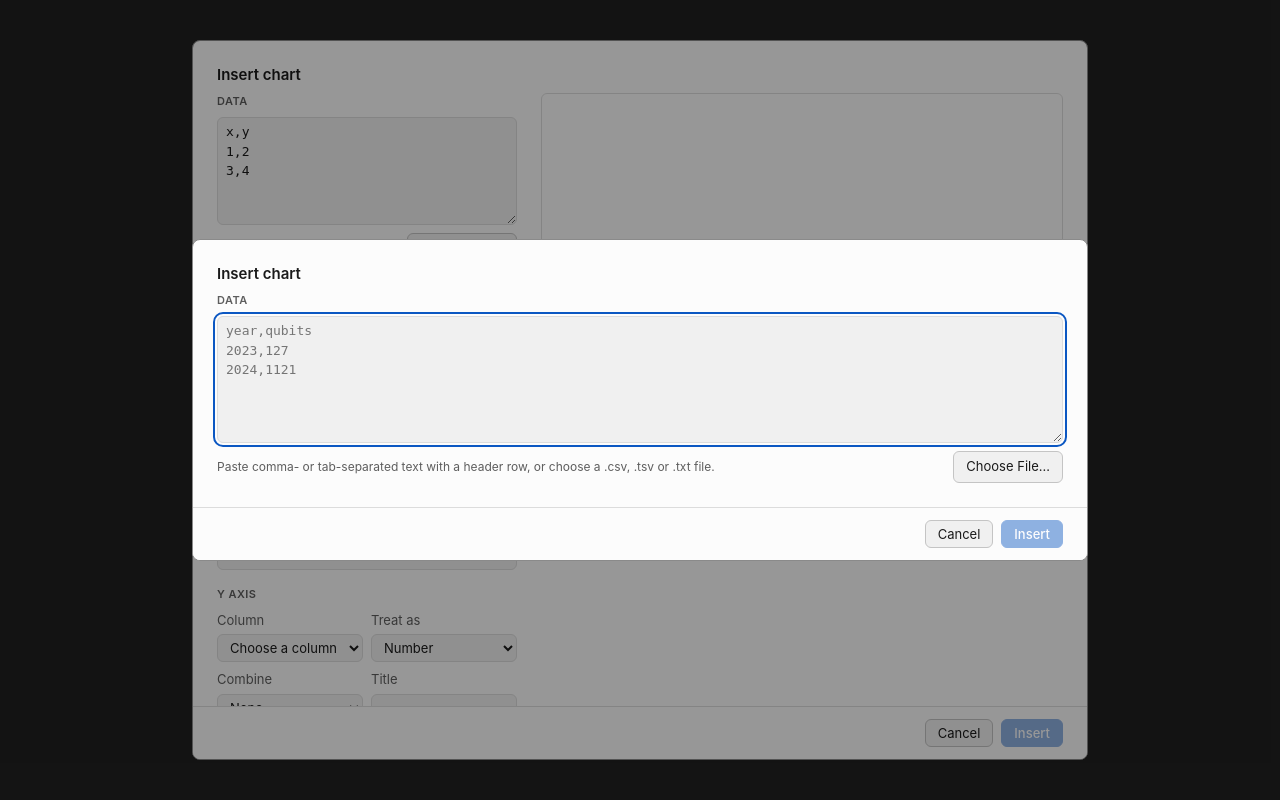
Test case: ChartBuilder data step › clears a stale import error when a second import is attempted
The width and height of the screenshot is (1280, 800).
Click the button "Choose File…" at (1008, 467), box [953,451,1063,483]
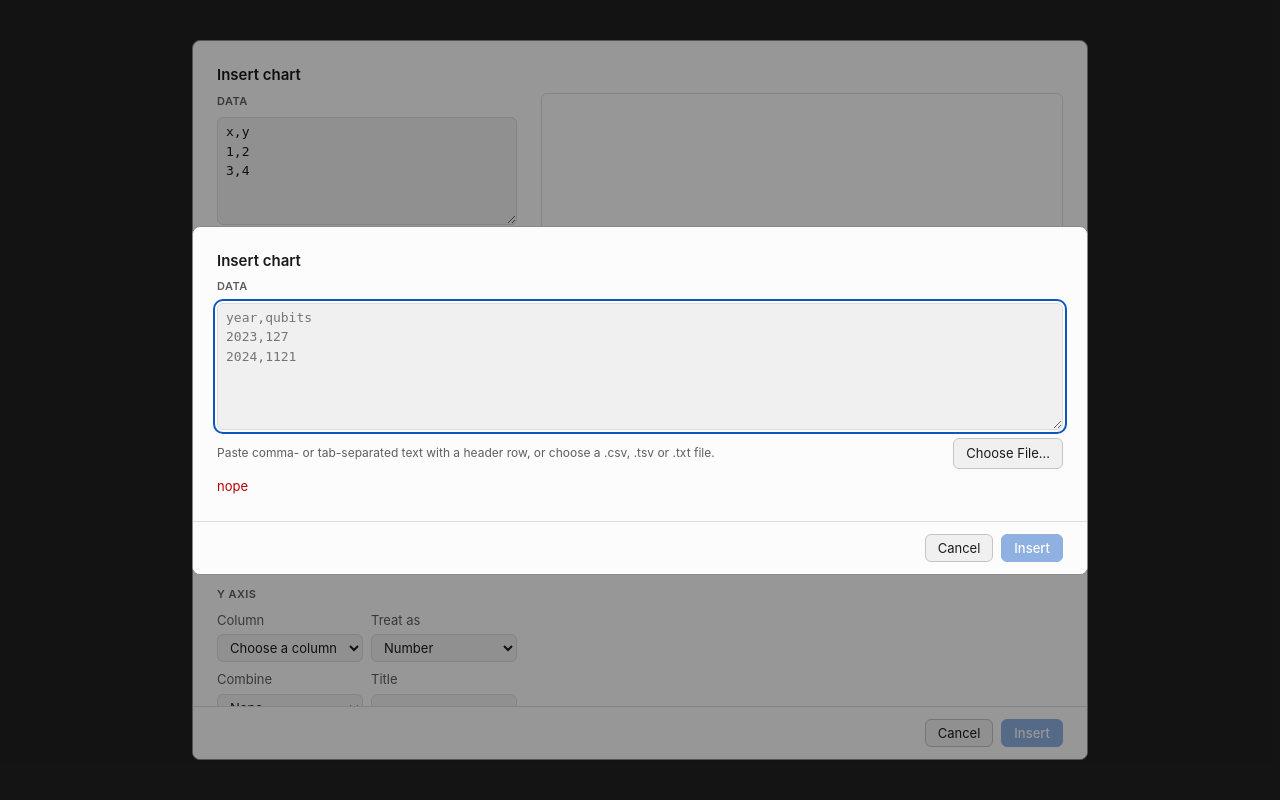
Expected: the text "nope" is shown, [217,478,248,494]
Click the button "Choose File…" at (1008, 453), box [953,438,1063,469]
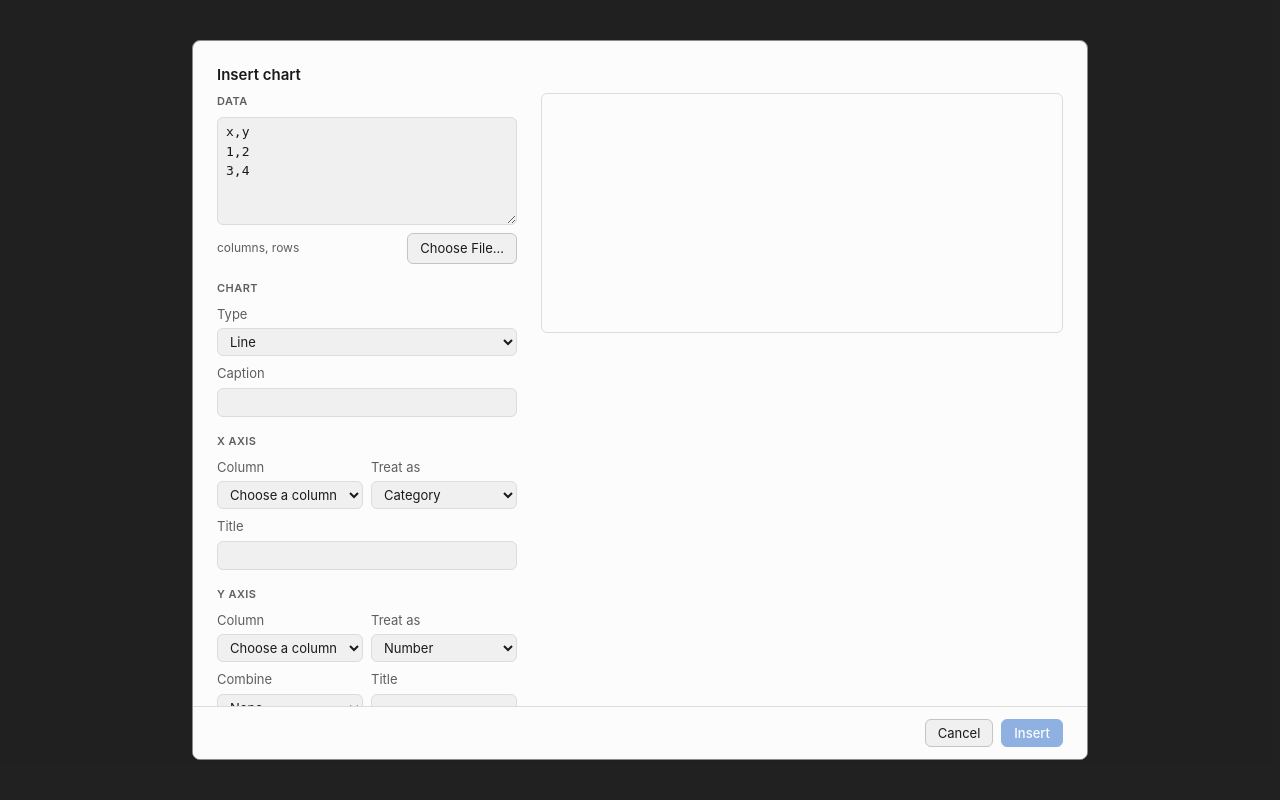
Expected: the text "nope" is gone
